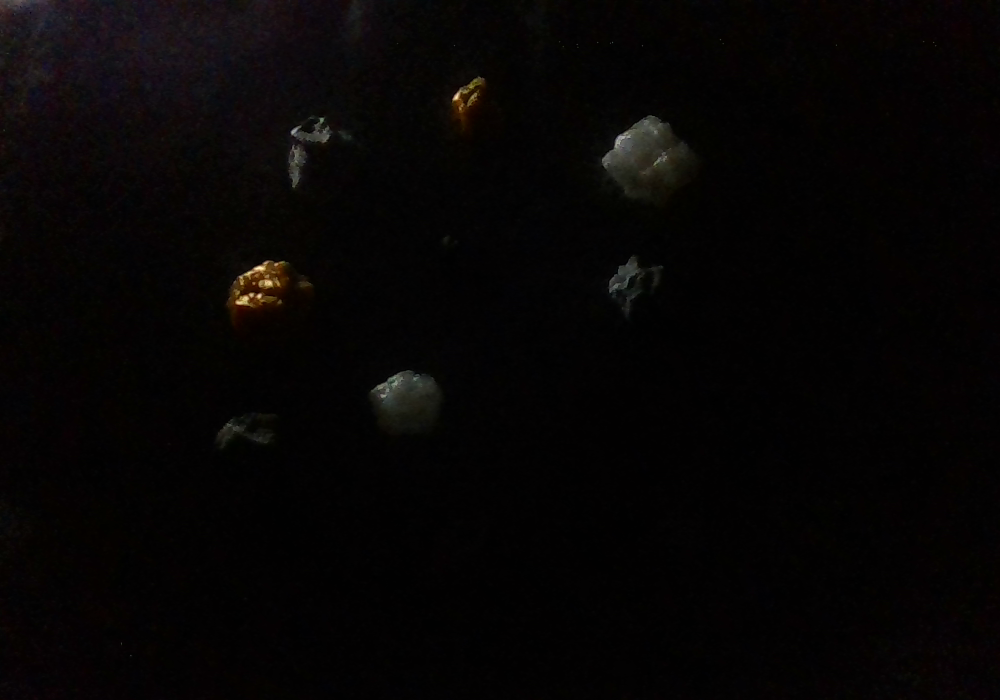anorthosite: (601, 114, 702, 205), (368, 370, 442, 434), (649, 496, 709, 559)
basalt: (560, 377, 649, 465), (435, 232, 501, 305), (243, 504, 297, 553)
metal: (227, 261, 318, 347), (430, 516, 491, 580), (453, 76, 508, 134)
regolith: (287, 116, 370, 207), (607, 253, 682, 327), (214, 409, 285, 468)
